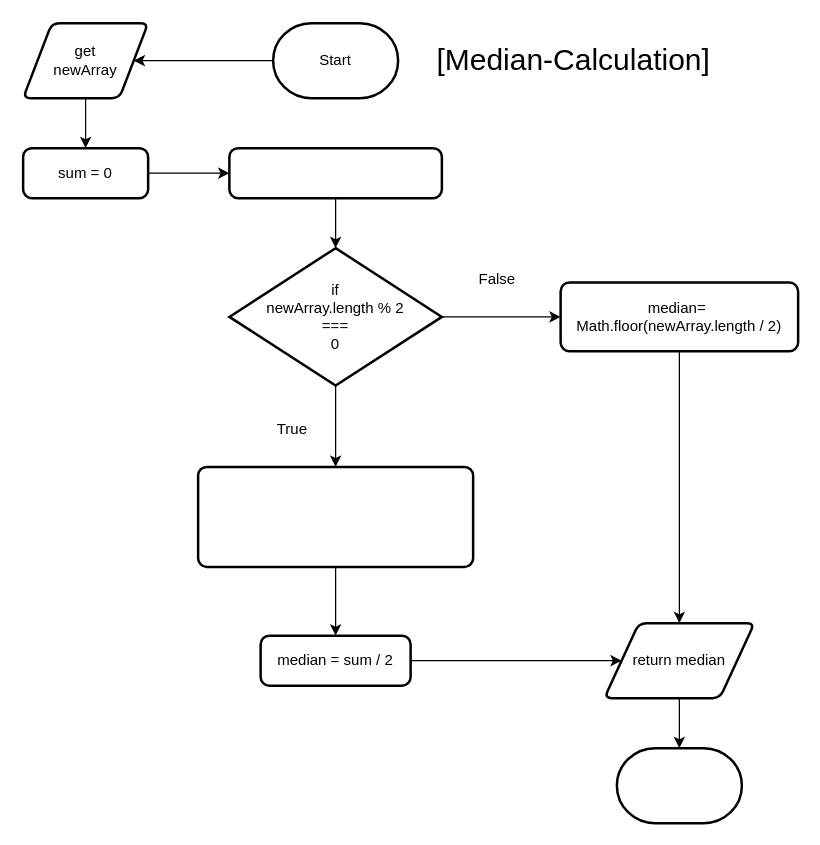
This 820x845 diagram has some shape labels left out. The centre of each missing label's shape, as x and y in pixels:
"newArray.sort((a, b) => a - b)" belongs at point 335,172.
"Stop" belongs at point 678,785.
"sum = (newArray[newArray.length / 2]) + (newArray[newArray.length / 2 + 1])" belongs at point 335,516.
